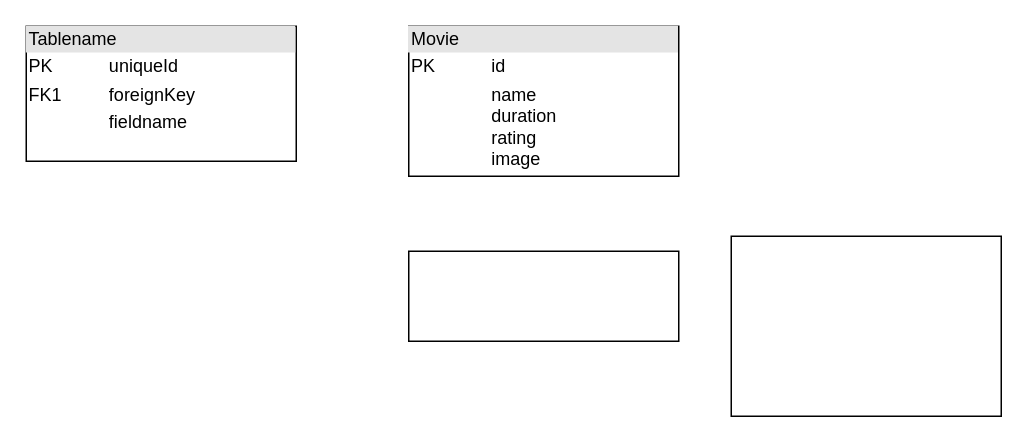
This 1028x443 diagram has some shape labels left out. Here are the shapes that lost their labels. From the top down, the centre of each, then its label:
point (543, 295): Cinema PK id name
point (865, 325): Movie Status PK id FK name
